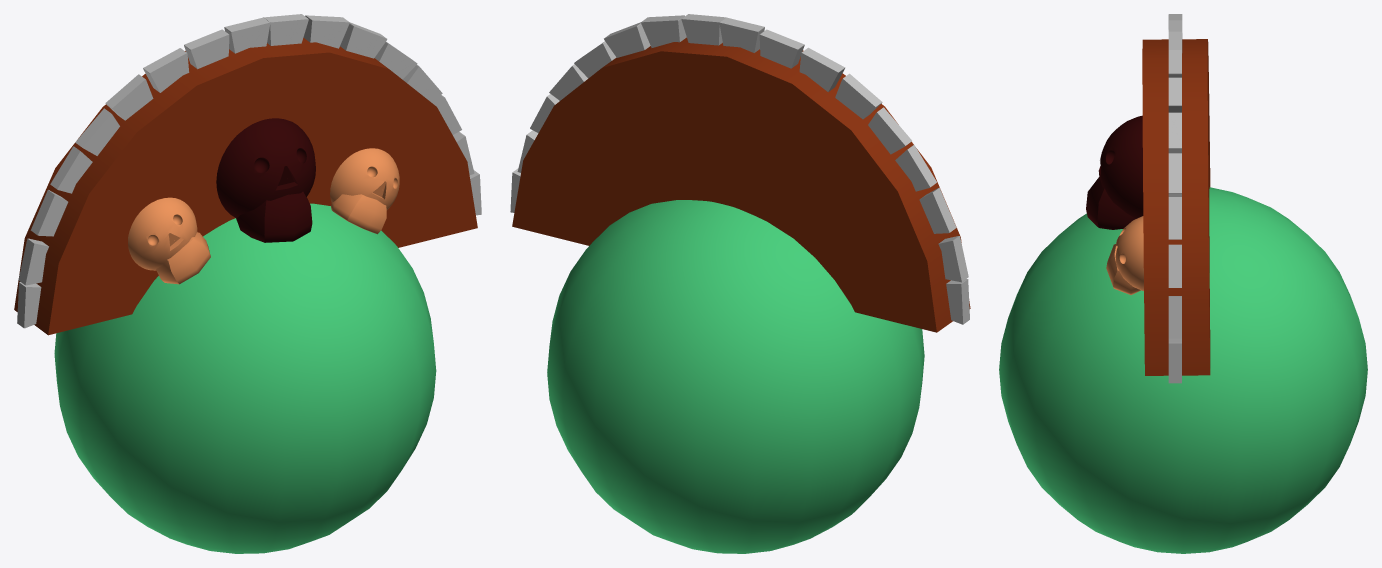
The model's file is bolitas6.2.fbx.
3 renders of one model, left to right at view 1: azimuth 30°, elevation 25°; view 2: azimuth 150°, elevation 25°; view 3: azimuth 270°, elevation 25°, orthographic. The views are drawn at different scales.
Parts seen in each view (by area): view 1: pasted__pSphere9, pasted__pCylinder3, pasted__pSphere14, pasted__pasted__pSphere14, pasted__pasted__pasted__pSphere14, pasted__pCube7, pasted__pasted__pCube7, pasted__pasted__pasted__pCube7, pasted__pasted__pasted__pasted__pCube16, pasted__pasted__pasted__pCube15, pasted__pasted__pasted__pasted__pasted__pCube16, pasted__pCube15 (+10 smaller); view 2: pasted__pSphere9, pasted__pCylinder3, pasted__pasted__pasted__pasted__pCube16, pasted__pasted__pasted__pCube15, pasted__pasted__pasted__pasted__pasted__pCube16, pasted__pCube15, pasted__pasted__pasted__pCube16, pasted__pasted__pCube15, pasted__pasted__pasted__pasted__pasted__pasted__pCube15, pasted__pasted__pasted__pasted__pCube15, pasted__pasted__pasted__pasted__pasted__pasted__pasted__d35f, pasted__pasted__pasted__pasted__pasted__pasted__pasted__pCub (+4 smaller); view 3: pasted__pSphere9, pasted__pCylinder3, pasted__pSphere14, pasted__pasted__pasted__pSphere14, pasted__pCube7, pasted__pasted__pasted__pasted__pasted__pasted__pasted__5fb6, pasted__pasted__pasted__pasted__pasted__pCube15, pasted__pasted__pasted__pasted__pasted__pasted__pasted__pCub, pasted__pasted__pasted__pasted__pasted__pasted__pasted__7972, pasted__pasted__pasted__pasted__pasted__pasted__pCube16, pasted__pasted__pasted__pCube7, pasted__pasted__pasted__pasted__pCube15 (+1 smaller).
Part boxes in pixels (x1=…): pasted__pSphere9: x1=54, y1=203, x2=436, y2=553; pasted__pCylinder3: x1=14, y1=38, x2=477, y2=335; pasted__pSphere14: x1=216, y1=118, x2=315, y2=217; pasted__pasted__pSphere14: x1=128, y1=197, x2=197, y2=270; pasted__pasted__pasted__pSphere14: x1=330, y1=148, x2=399, y2=210; pasted__pCube7: x1=236, y1=191, x2=312, y2=242; pasted__pasted__pCube7: x1=156, y1=232, x2=210, y2=284; pasted__pasted__pasted__pCube7: x1=331, y1=194, x2=386, y2=234; pasted__pasted__pasted__pasted__pCube16: x1=143, y1=48, x2=189, y2=92; pasted__pasted__pasted__pCube15: x1=184, y1=29, x2=229, y2=69; pasted__pasted__pasted__pasted__pasted__pCube16: x1=105, y1=74, x2=153, y2=120; pasted__pCube15: x1=224, y1=17, x2=270, y2=53; pasted__pSphere9: x1=547, y1=200, x2=924, y2=553; pasted__pCylinder3: x1=512, y1=37, x2=970, y2=332; pasted__pasted__pasted__pasted__pCube16: x1=799, y1=47, x2=845, y2=91; pasted__pasted__pasted__pCube15: x1=759, y1=29, x2=804, y2=68; pasted__pasted__pasted__pasted__pasted__pCube16: x1=835, y1=73, x2=882, y2=119; pasted__pCube15: x1=719, y1=17, x2=764, y2=52; pasted__pasted__pasted__pCube16: x1=641, y1=15, x2=686, y2=47; pasted__pasted__pCube15: x1=681, y1=14, x2=725, y2=45; pasted__pasted__pasted__pasted__pasted__pasted__pCube15: x1=868, y1=107, x2=911, y2=154; pasted__pasted__pasted__pasted__pCube15: x1=604, y1=22, x2=650, y2=57; pasted__pasted__pasted__pasted__pasted__pasted__pasted__d35f: x1=919, y1=187, x2=956, y2=233; pasted__pasted__pasted__pasted__pasted__pasted__pasted__pCub: x1=895, y1=145, x2=936, y2=191; pasted__pSphere9: x1=999, y1=187, x2=1367, y2=553; pasted__pCylinder3: x1=1142, y1=39, x2=1210, y2=375; pasted__pSphere14: x1=1098, y1=115, x2=1143, y2=218; pasted__pasted__pasted__pSphere14: x1=1114, y1=216, x2=1143, y2=290; pasted__pCube7: x1=1086, y1=177, x2=1135, y2=229; pasted__pasted__pasted__pasted__pasted__pasted__pasted__5fb6: x1=1168, y1=338, x2=1181, y2=383; pasted__pasted__pasted__pasted__pasted__pCube15: x1=1168, y1=153, x2=1181, y2=196; pasted__pasted__pasted__pasted__pasted__pasted__pasted__pCub: x1=1168, y1=244, x2=1181, y2=287; pasted__pasted__pasted__pasted__pasted__pasted__pasted__7972: x1=1168, y1=296, x2=1181, y2=338; pasted__pasted__pasted__pasted__pasted__pasted__pCube16: x1=1168, y1=197, x2=1181, y2=239; pasted__pasted__pasted__pCube7: x1=1106, y1=244, x2=1140, y2=294; pasted__pasted__pasted__pasted__pCube15: x1=1168, y1=112, x2=1181, y2=153.
Bounding box in the file's own units: 276 × 296 × 200.
